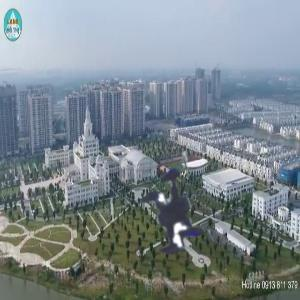drone: (92, 130, 260, 298)
